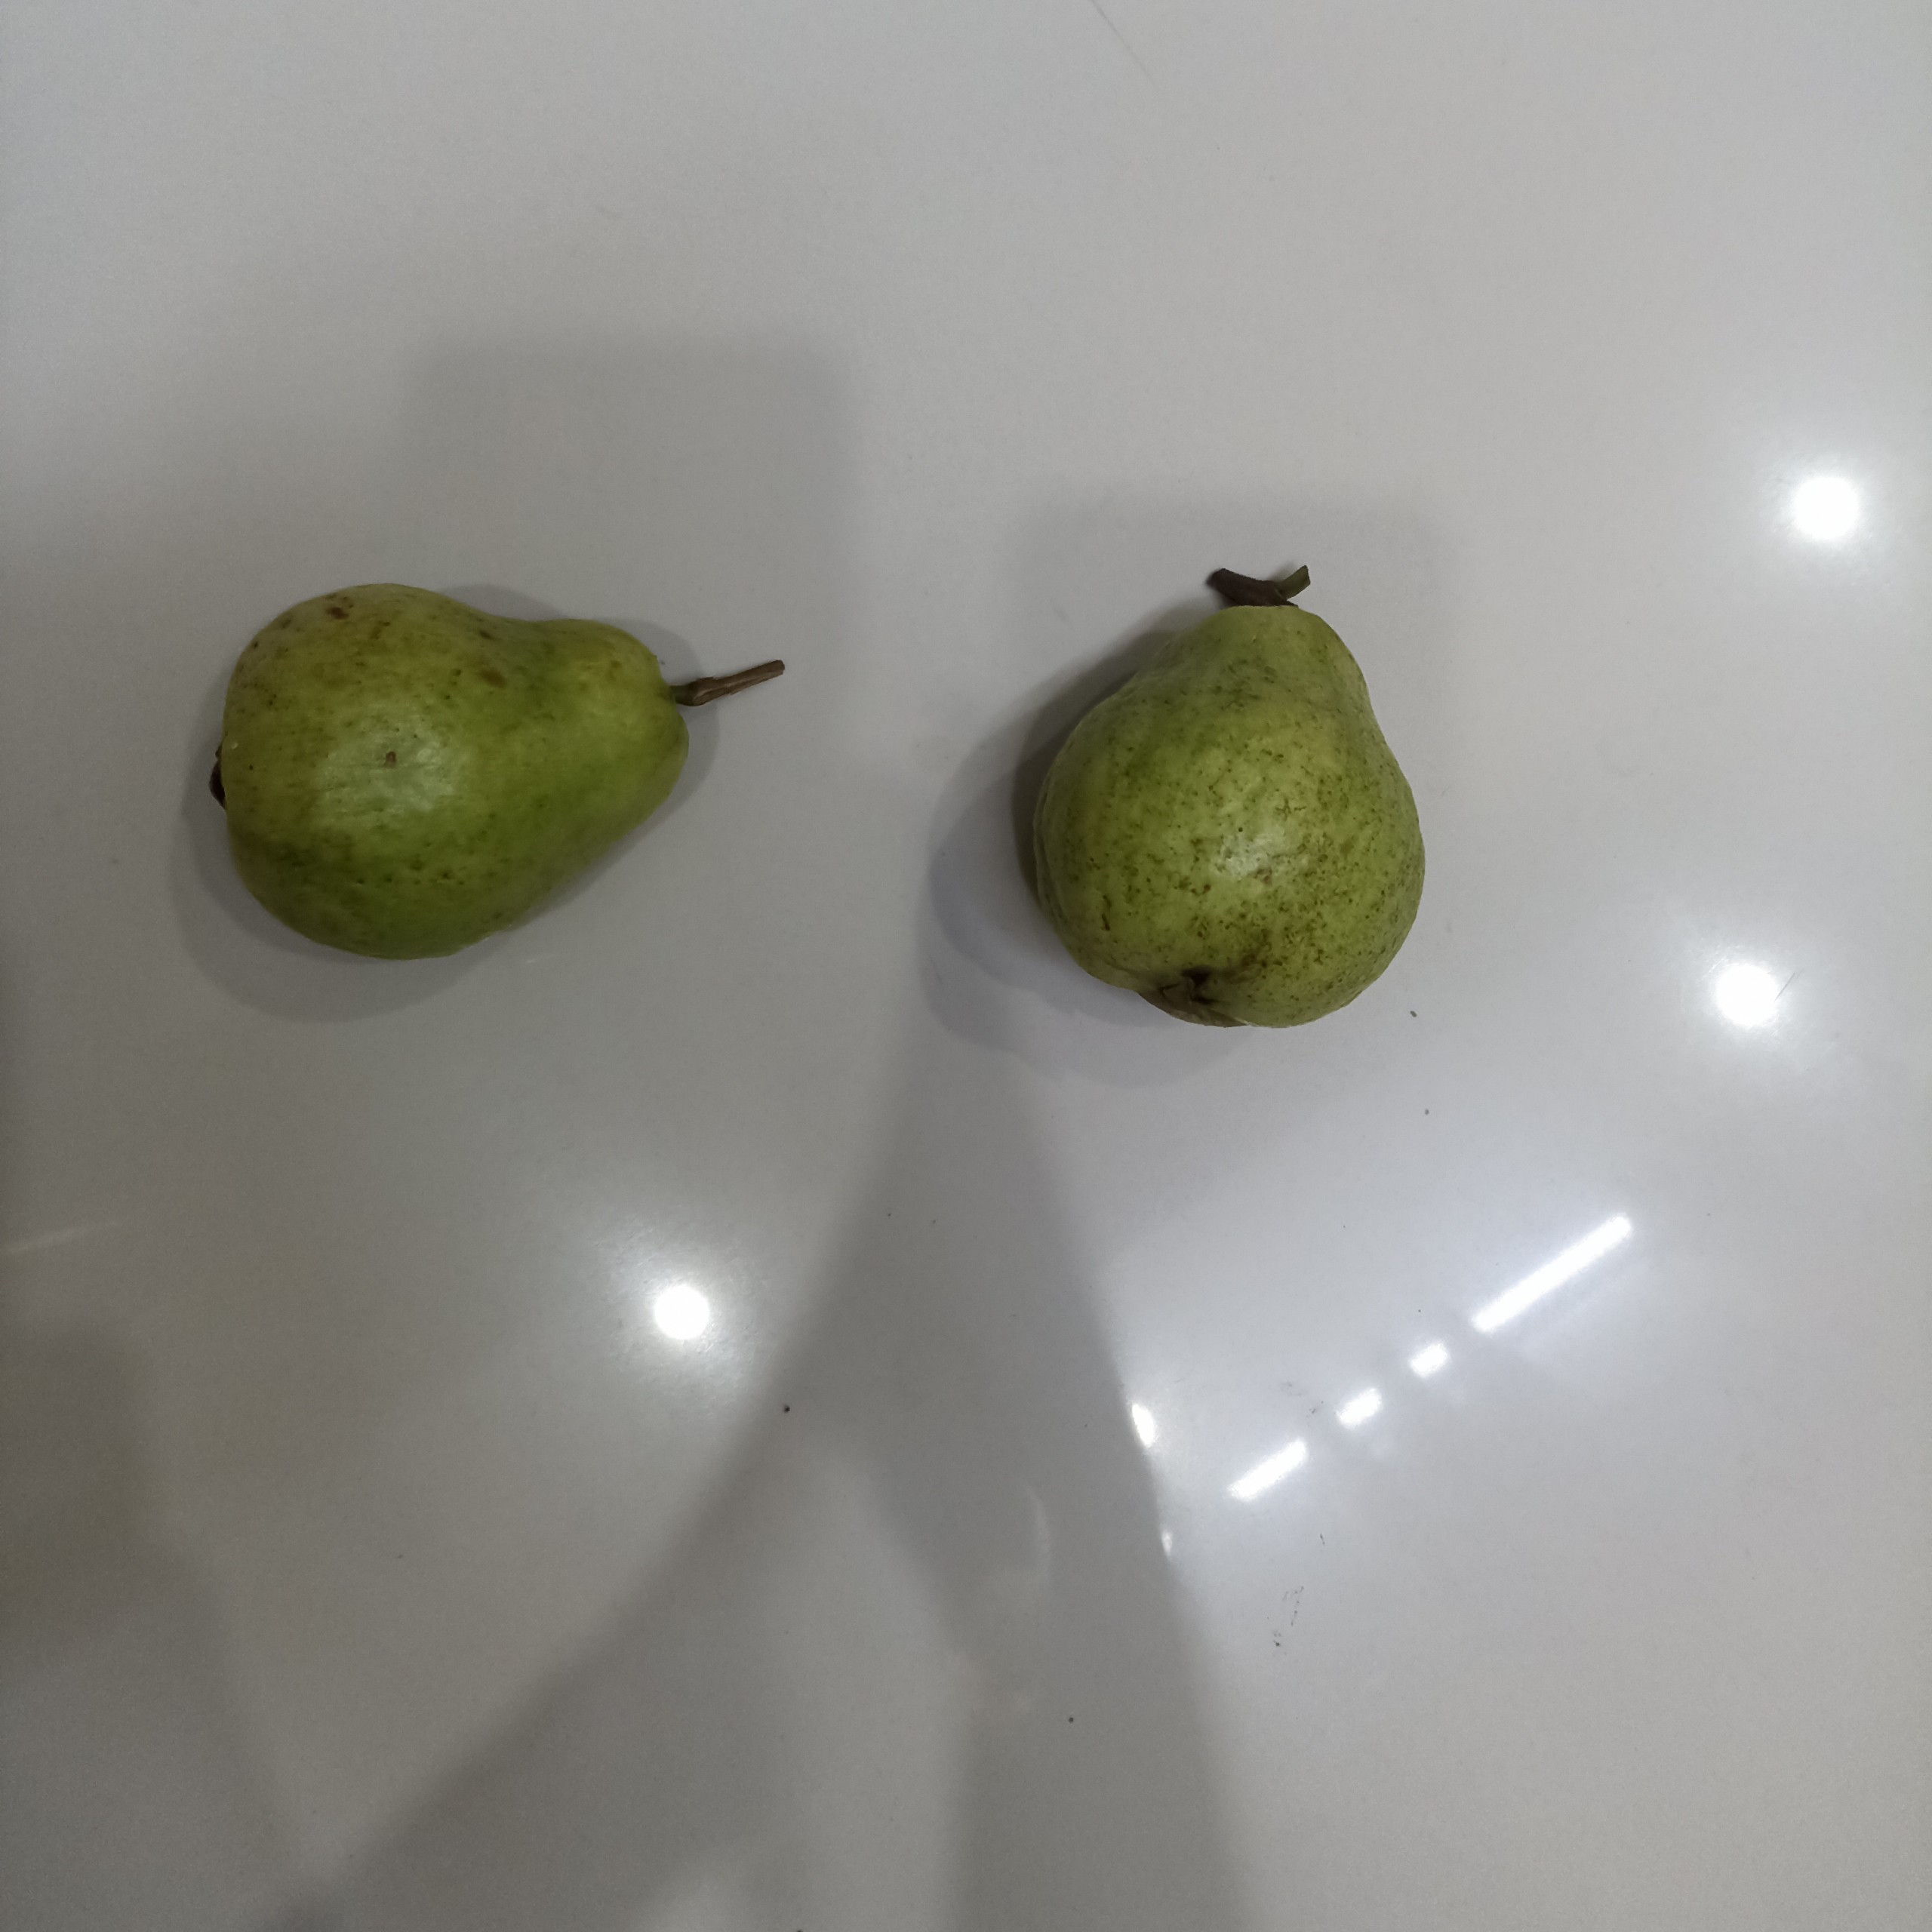Oi: (214, 583, 692, 961), (1034, 605, 1428, 1027)
